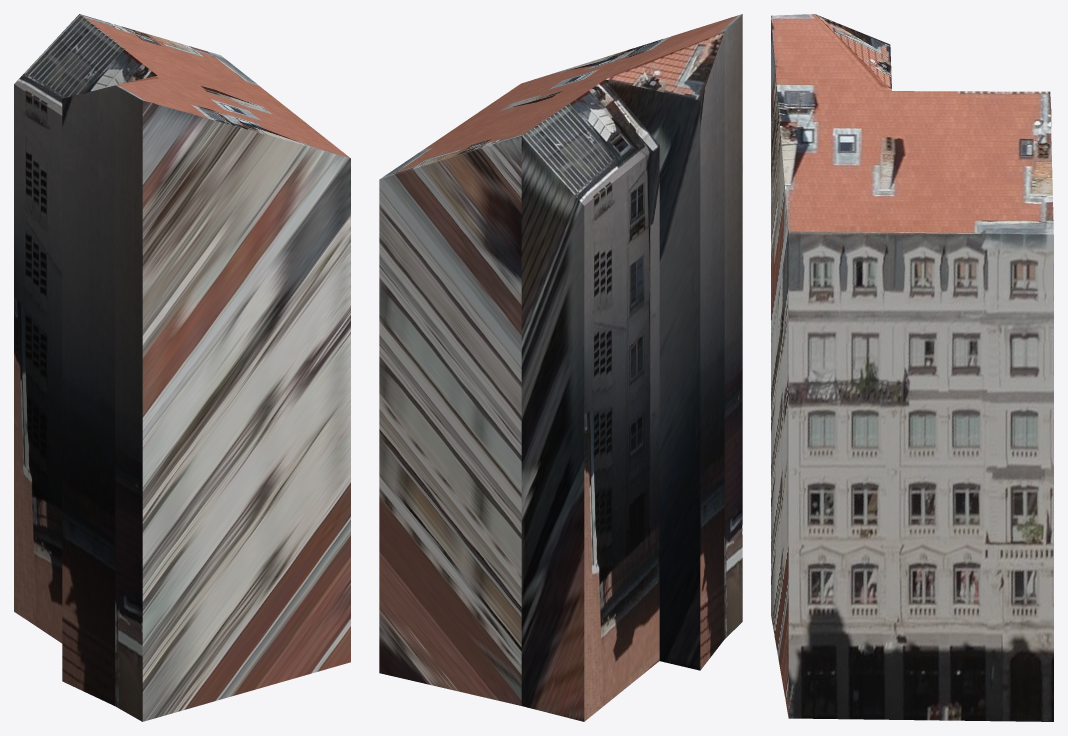
3 views of the same model, side by side, from view 1: azimuth 30°, elevation 25°; view 2: azimuth 150°, elevation 25°; view 3: azimuth 270°, elevation 25° (orthographic). The views are drawn at different scales.
Visible parts, largest first — view 1: Z_UP; view 2: Z_UP; view 3: Z_UP.
Boxes of the visible parts, left/top/right/bottom form: Z_UP: left=14, top=14, right=350, bottom=721; Z_UP: left=379, top=14, right=742, bottom=721; Z_UP: left=771, top=14, right=1053, bottom=721.
Size of the model in its own units: 11.68 by 28.49 by 12.16.
2 materials, 1 textured.
